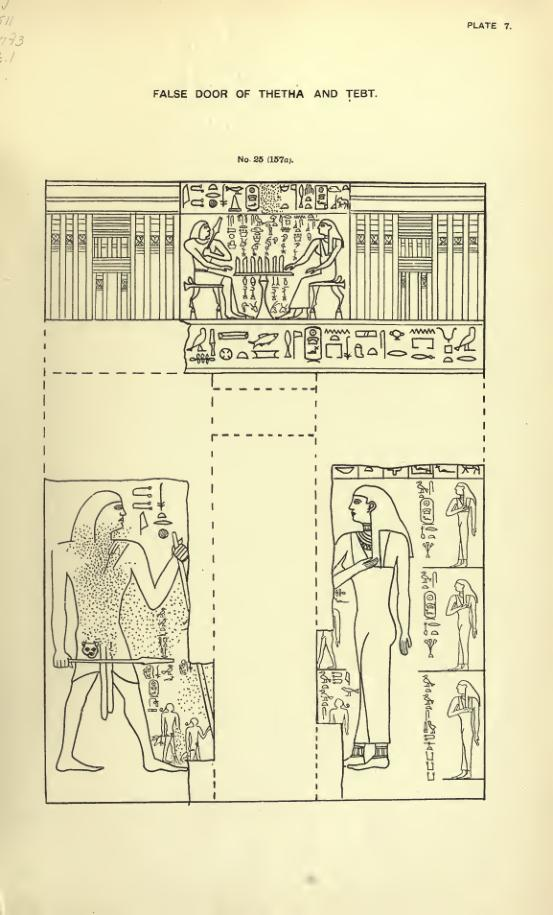circle: (304, 325, 324, 365), (422, 589, 441, 621), (419, 496, 437, 526), (244, 183, 261, 212)
